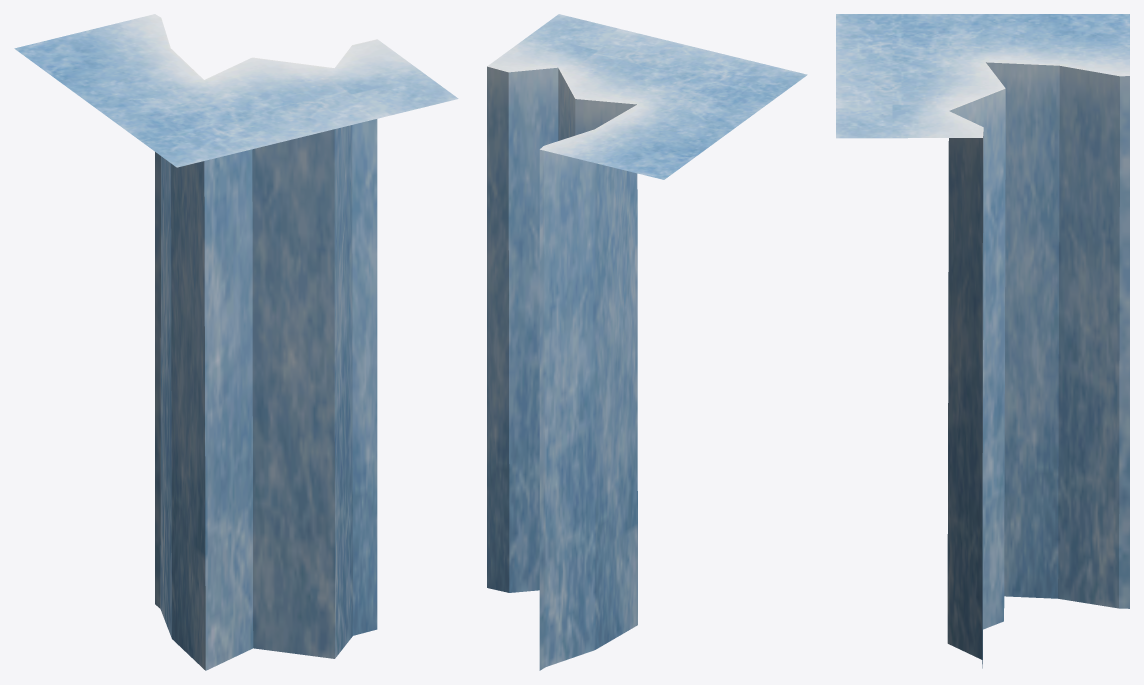
The model's file is Ice_Corner_InnerA.fbx.
3 views of the same model, side by side, from view 1: azimuth 30°, elevation 25°; view 2: azimuth 150°, elevation 25°; view 3: azimuth 270°, elevation 25° (orthographic). The views are drawn at different scales.
Visible parts, largest first — view 1: Ice_Corner_InnerA; view 2: Ice_Corner_InnerA; view 3: Ice_Corner_InnerA.
Part boxes in pixels (x1=…): Ice_Corner_InnerA: x1=14, y1=14, x2=458, y2=670; Ice_Corner_InnerA: x1=487, y1=14, x2=807, y2=670; Ice_Corner_InnerA: x1=836, y1=14, x2=1129, y2=668.
Bounding box in the file's own units: 1.2 × 2.4 × 1.2.
Materials: 1 (1 with a texture image).
